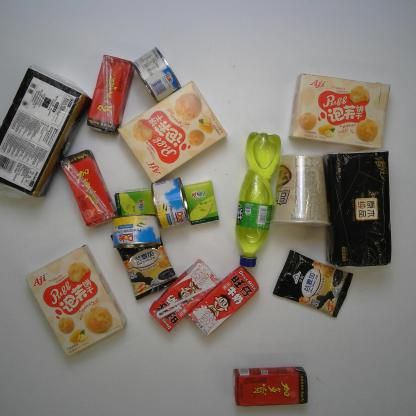Canned Food: (130, 42, 187, 108), (142, 168, 196, 237), (101, 209, 172, 252)
Dessert: (21, 232, 134, 369), (116, 77, 232, 187), (280, 54, 393, 152)
Drink: (223, 118, 296, 275), (216, 351, 325, 410), (75, 42, 138, 144), (60, 148, 119, 236)
Instant Drink: (273, 237, 361, 329), (106, 228, 182, 306)
Instant Noodles: (271, 143, 332, 243)
Milk: (139, 251, 231, 337), (175, 264, 266, 342)
Tissue: (4, 56, 87, 215), (321, 138, 403, 280), (179, 177, 225, 235), (106, 173, 158, 222)
